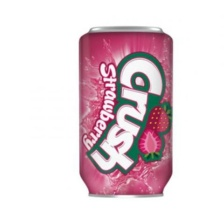can: (67, 18, 180, 211)
